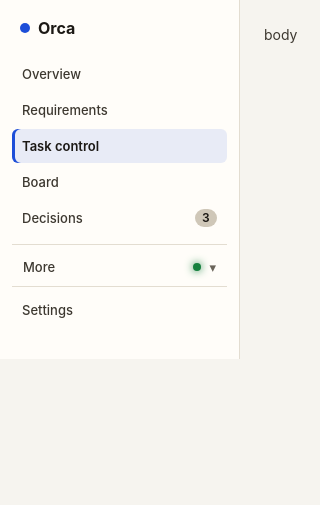
Test: the sidebar's More group (tester #79) › carries the chain's running dot on the closed toggle, and drops the copy once the group is open
The width and height of the screenshot is (320, 505).
Expected: the element with test id "nav-dot-more" is shown, [194, 263, 202, 271]
Click the button "More ▾": (120, 267) [12, 250, 227, 284]
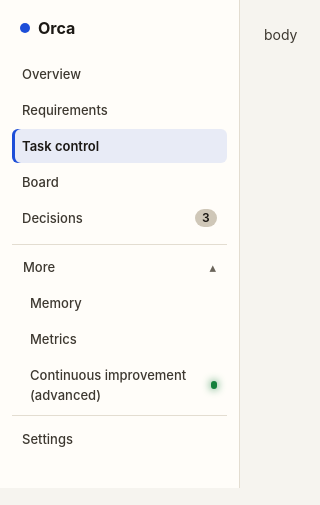
Expected: the element with test id "nav-dot-more" is gone
Expected: the element with test id "nav-dot-chains" is shown, [211, 382, 217, 390]
